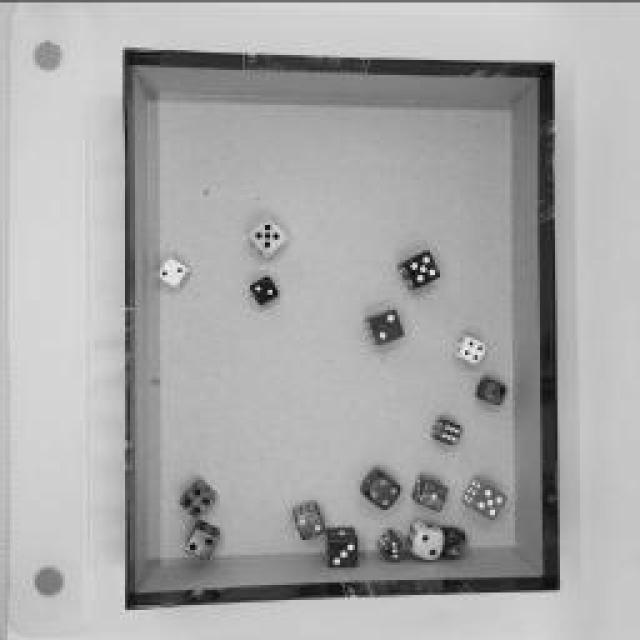dice_1: (408, 474, 450, 511), (475, 376, 510, 409)
dice_2: (405, 516, 445, 564), (362, 308, 408, 348), (182, 518, 222, 562), (292, 498, 328, 544), (154, 252, 191, 292), (246, 274, 282, 306)
dice_3: (321, 524, 361, 571), (376, 528, 409, 562)
dice_4: (358, 465, 402, 513), (178, 476, 220, 519), (450, 332, 488, 366)
dice_5: (459, 472, 511, 522), (245, 214, 290, 261), (396, 248, 444, 292), (437, 525, 465, 560)
dice_6: (430, 416, 462, 446)
